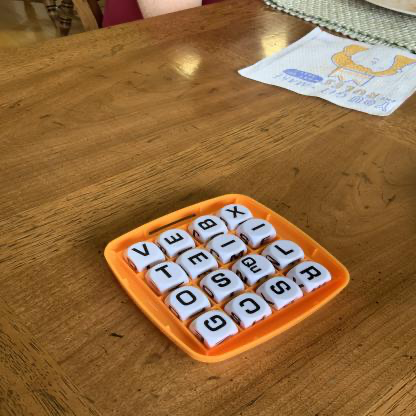b: (196, 216, 224, 233)
c: (234, 295, 268, 319)
e: (183, 250, 215, 271), (161, 230, 191, 250)
g: (198, 313, 234, 340)
i: (213, 235, 244, 255), (244, 220, 273, 237)
l: (272, 241, 302, 261)
o: (171, 288, 205, 313)
qu: (241, 256, 273, 277)
r: (297, 263, 330, 284)
s: (208, 271, 241, 294), (266, 279, 299, 301)
t: (151, 263, 184, 286)
v: (129, 243, 162, 264)
x: (223, 205, 250, 222)
